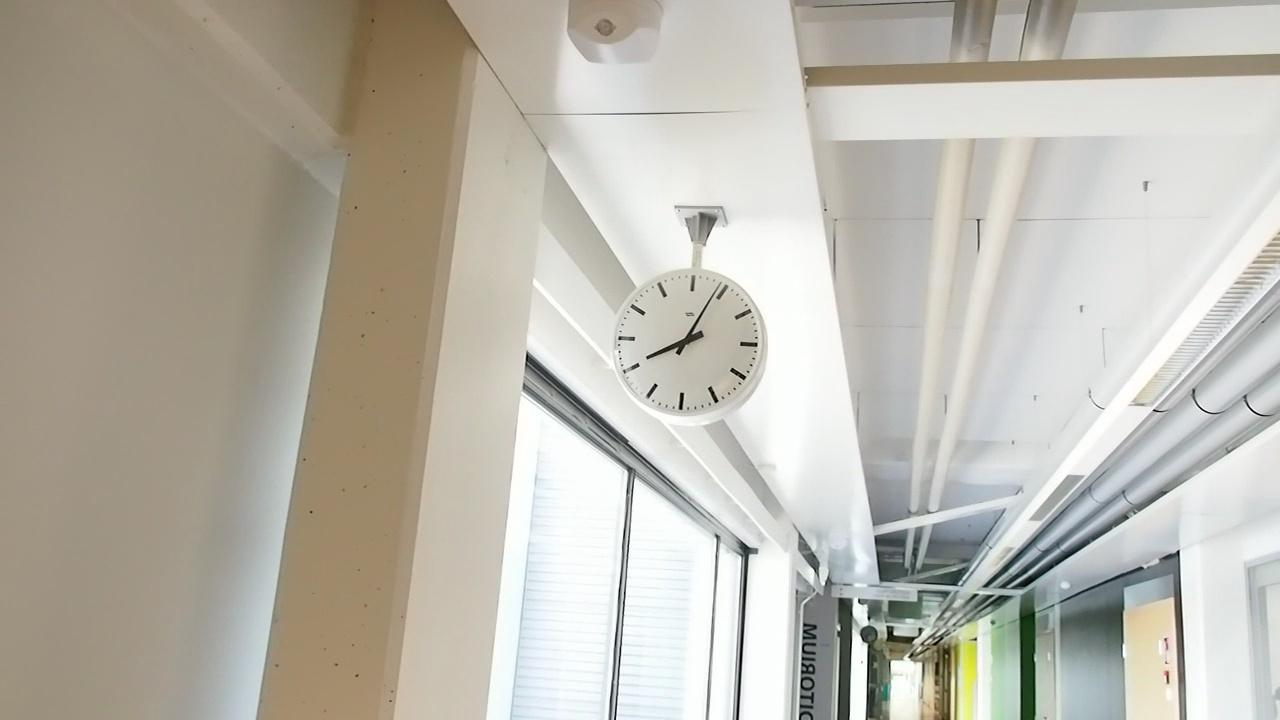clock: (604, 275, 765, 420)
